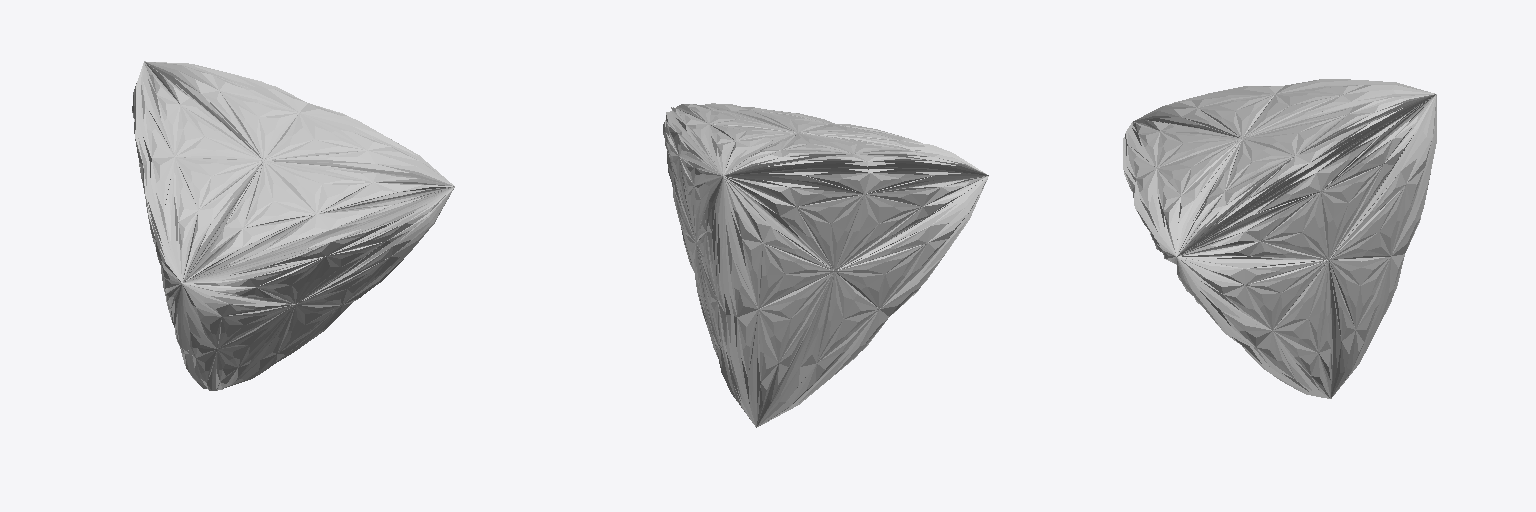
3 renders of one model, left to right at view 1: azimuth 30°, elevation 25°; view 2: azimuth 150°, elevation 25°; view 3: azimuth 270°, elevation 25°, orthographic.
Parts seen in each view (by area): view 1: temp1:_Instancer_Objects temp1:pCone1 shape02 _Shapes; view 2: temp1:_Instancer_Objects temp1:pCone1 shape02 _Shapes; view 3: temp1:_Instancer_Objects temp1:pCone1 shape02 _Shapes.
Boxes of the visible parts, box(x1,y1,x2,y2) form: temp1:_Instancer_Objects temp1:pCone1 shape02 _Shapes: box(132, 61, 454, 390); temp1:_Instancer_Objects temp1:pCone1 shape02 _Shapes: box(663, 103, 988, 427); temp1:_Instancer_Objects temp1:pCone1 shape02 _Shapes: box(1123, 79, 1436, 398).
Bounding box in the file's own units: 12.67 × 12.32 × 11.7.